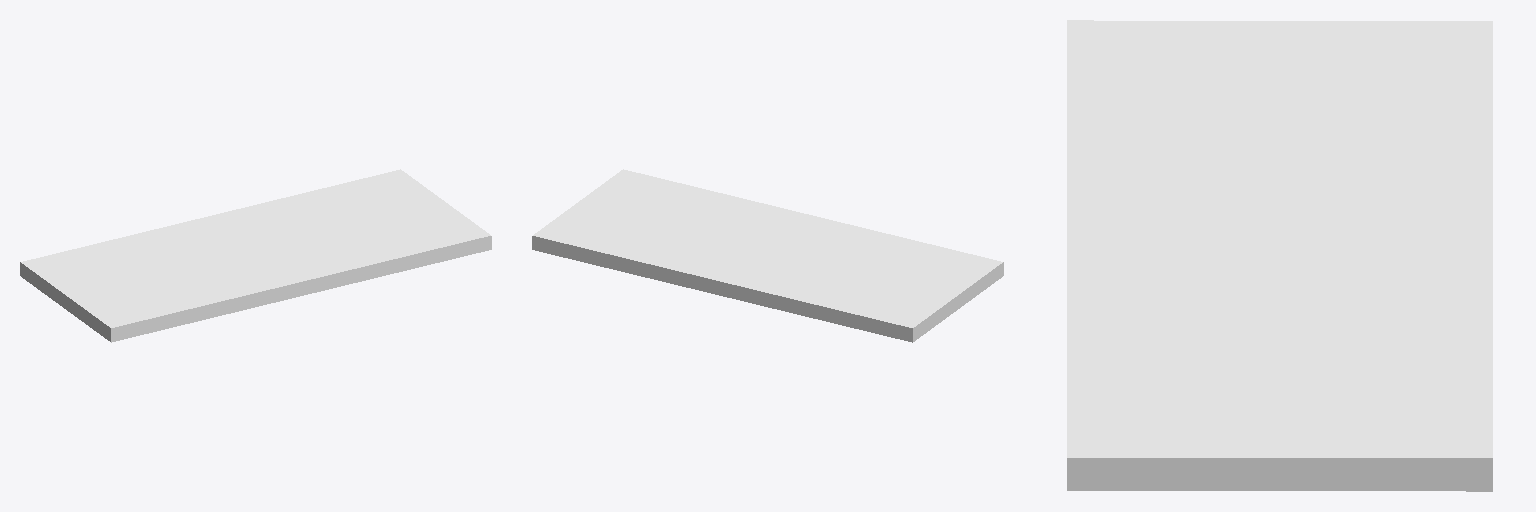
URDF robot description (board):
<?xml version="0.0" ?>
<robot name="board">
    <material name="white">
        <color rgba="1 1 1 1"/>
    </material>

    <link name="baseLink">
        <!-- from lego/lego.urdf -->
        <inertial>
            <origin rpy="0 0 0" xyz="0 0 0"/>
            <mass value="10.0"/>
            <inertia ixx="1" ixy="0" ixz="0" iyy="1" iyz="0" izz="1"/>
        </inertial>
        <visual>
            <origin rpy="1.57 0 0" xyz="0 0 0"/>
            <geometry>
                <!--        radius: 10mm, depth: 14.5mm-->
                <mesh filename="meshes/horizon_border.obj" scale="1 1 1"/>
                <!--        <box size="0.002 0.002 0.002"/>-->
            </geometry>
            <material name="white"/>
        </visual>
        <collision>
            <origin rpy="1.57 0 0" xyz="0 0 0"/>
            <geometry>
                <mesh filename="meshes/horizon_border.obj" scale="1 1 1"/>
                       <!-- <box size="2 2 2"/> -->
            </geometry>
        </collision>
    </link>
</robot>

--- What the picture shows (computed from the rendered views, not written in the file) ---
Views: 3 orthographic renders of the robot side by side, from view 1: azimuth 30°, elevation 25°; view 2: azimuth 150°, elevation 25°; view 3: azimuth 270°, elevation 25°.
Model board with 1 links and 0 joints (none), rooted at baseLink, posed every joint at zero.
Visible links, largest first — view 1: baseLink; view 2: baseLink; view 3: baseLink.
Link boxes in pixels (x1,y1,x2,y2): baseLink: (20,169,491,342); baseLink: (532,169,1003,342); baseLink: (1067,20,1492,491).
Bounding box of the posed robot: 0.3133 × 0.1293 × 0.0113 m (x, y, z).
Meshes: 1 distinct files referenced, 1 mesh visuals loaded (1 OBJ).
